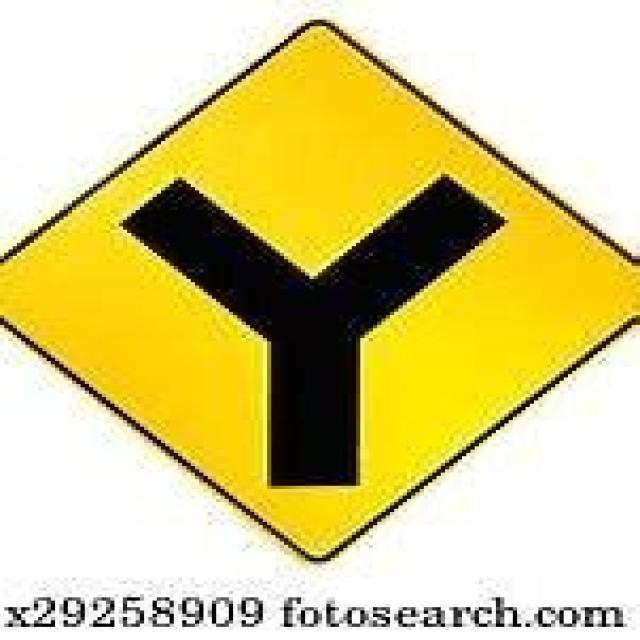y intersection: (35, 48, 609, 567)
